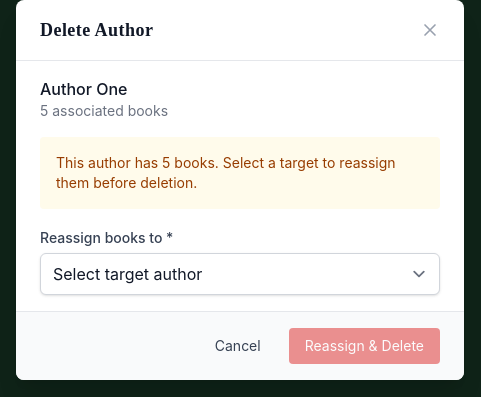
Test case: ReassignDeleteModal › target validation (#665) › enables delete button when target is selected
This screenshot has width=481, height=397.
Note: Select a target
Select "Author Two (3 books)" in the dropdown labelled "Reassign books to *" at point(240, 274), box [40,253,440,295]
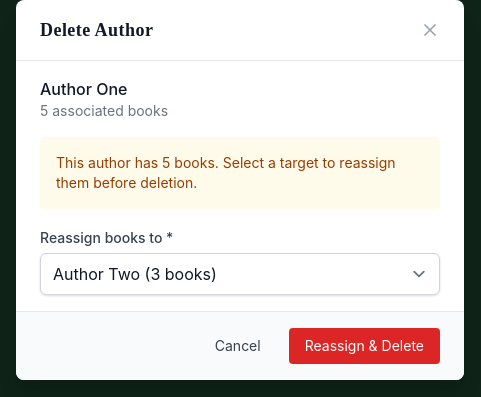
Expected: the button "Reassign & Delete" is enabled, [289,328,440,364]
